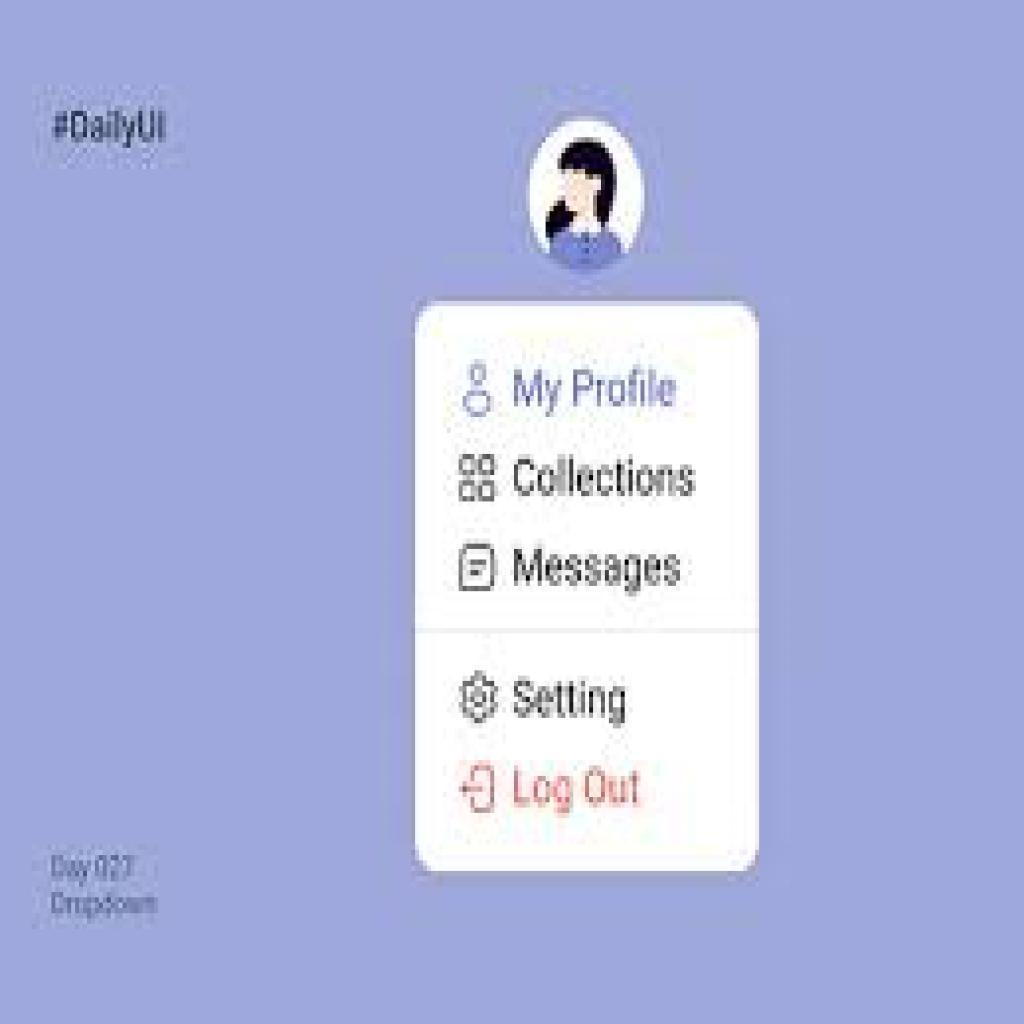icon: (446, 359, 507, 432), (453, 447, 506, 517), (452, 536, 505, 603), (455, 755, 503, 822), (460, 670, 504, 743)
